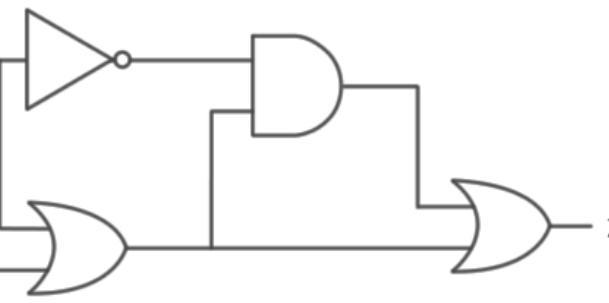and: (244, 27, 356, 146)
not: (21, 5, 137, 114)
or: (444, 172, 558, 278), (21, 194, 129, 299)
